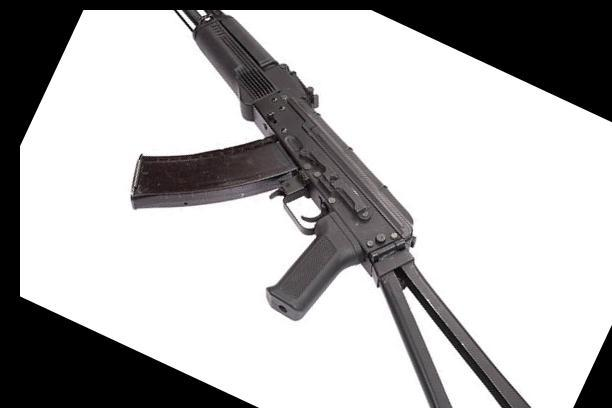larga: (129, 11, 532, 408)
